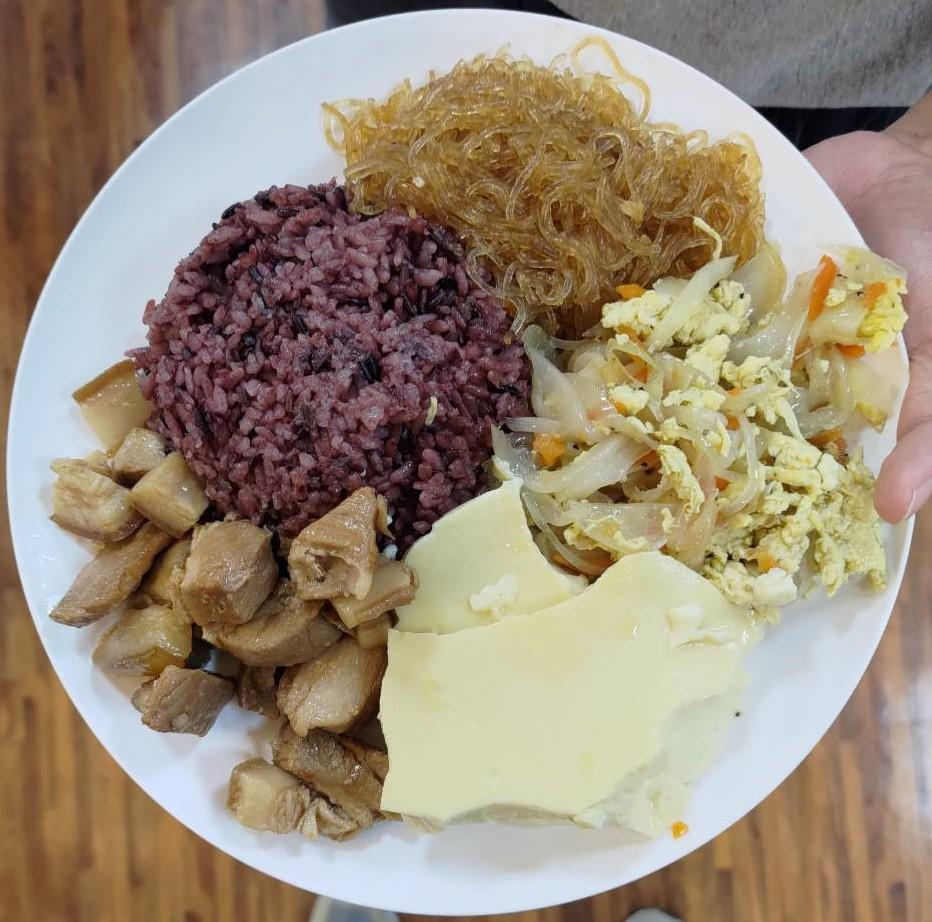big fried chicken leg: (6, 0, 926, 922)
braised fish: (144, 184, 521, 526)
braised fish fillet: (509, 252, 910, 600), (386, 490, 747, 830), (328, 54, 769, 313)
braised pork: (50, 353, 392, 841)
